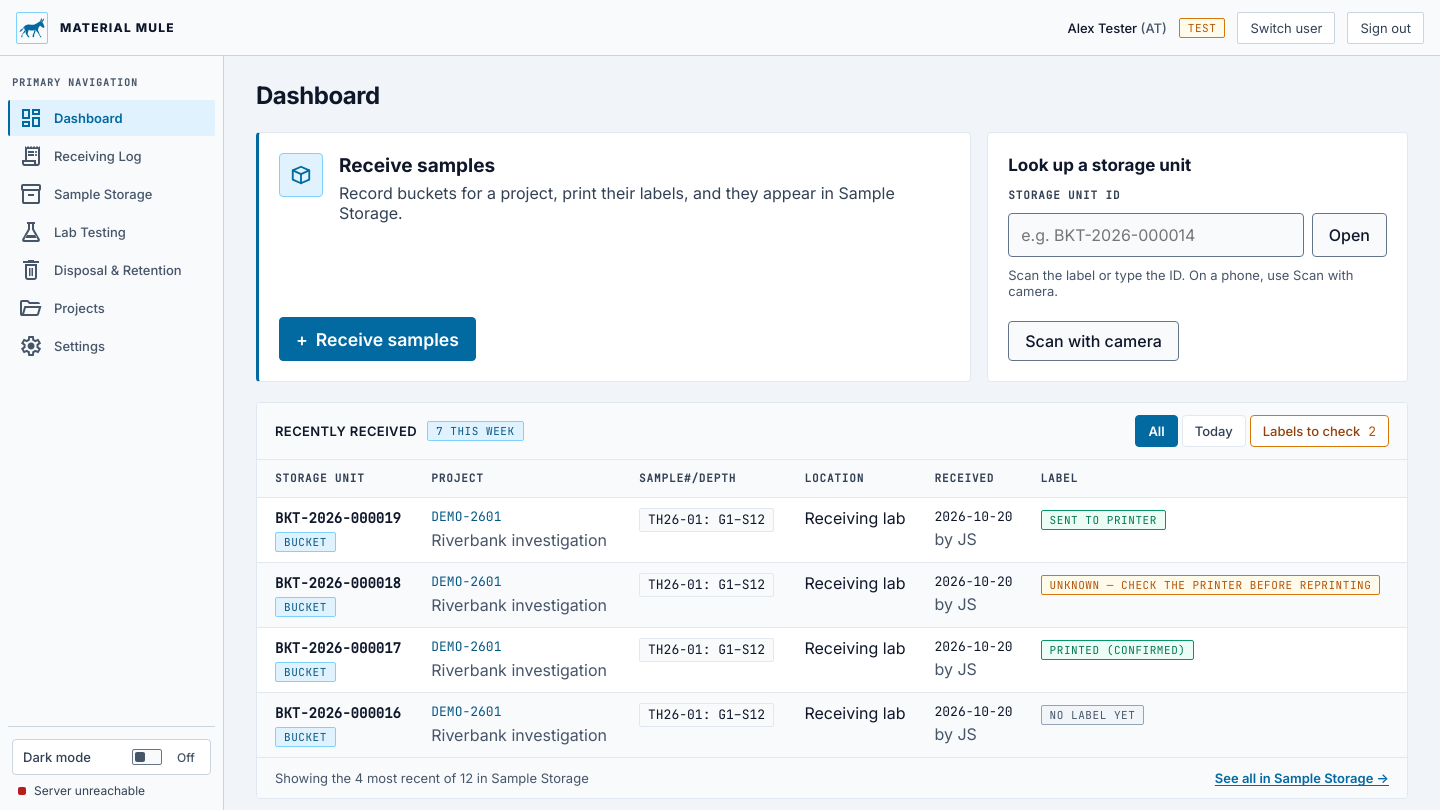
Scenario: Dashboard › filters by Today and Labels to check
The image size is (1440, 810).
Click the button "Labels to check 2".
click(1319, 431)  # box [1250,415,1389,447]
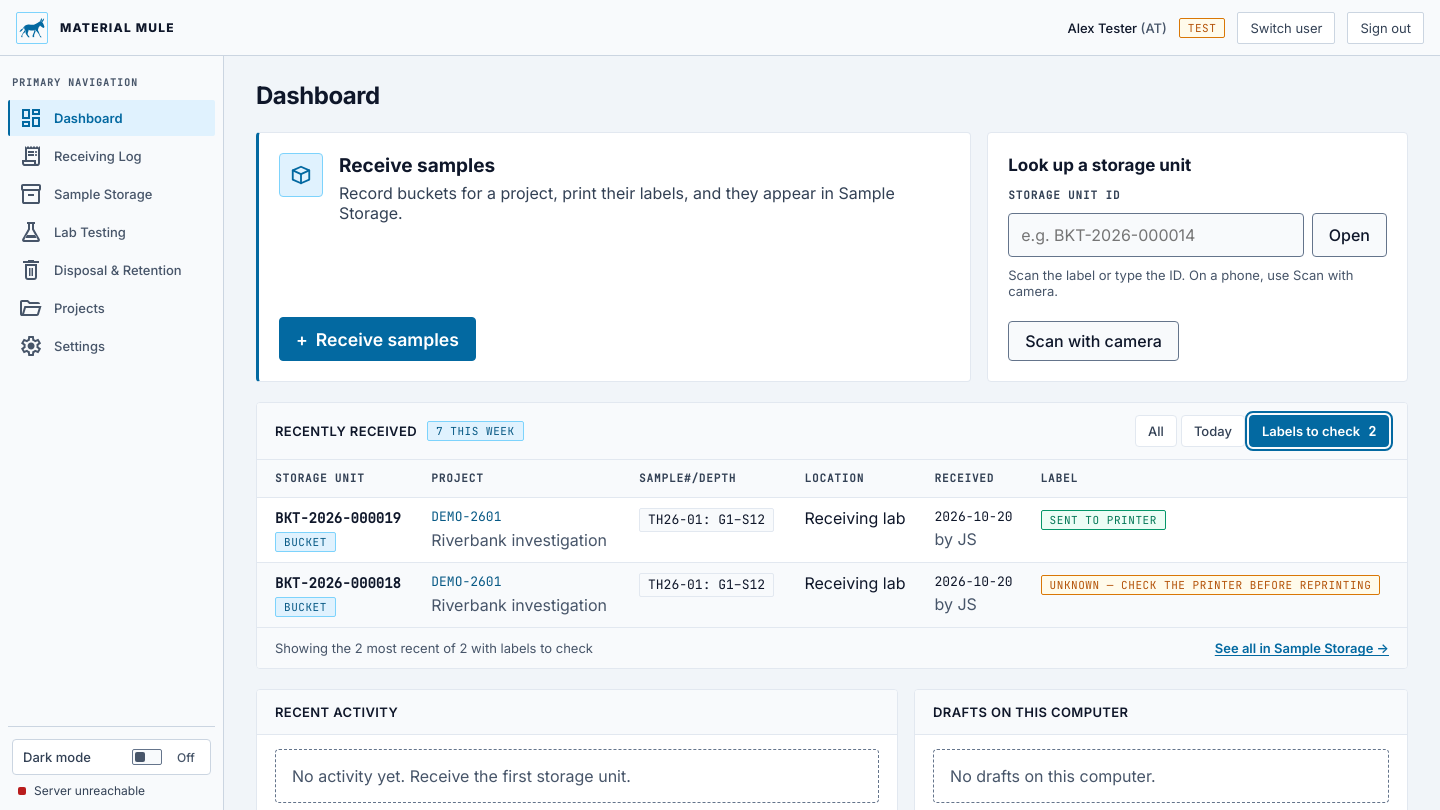
Check: the text "Showing the 2 most recent of 2 with labels to check" is shown, box [275,640,593,656]
Check: the number of rows is 3, box [257,460,1407,498]; [257,498,1407,563]; [257,563,1407,627]
Click the button "Today".
click(1213, 431)  # box [1181,415,1245,447]
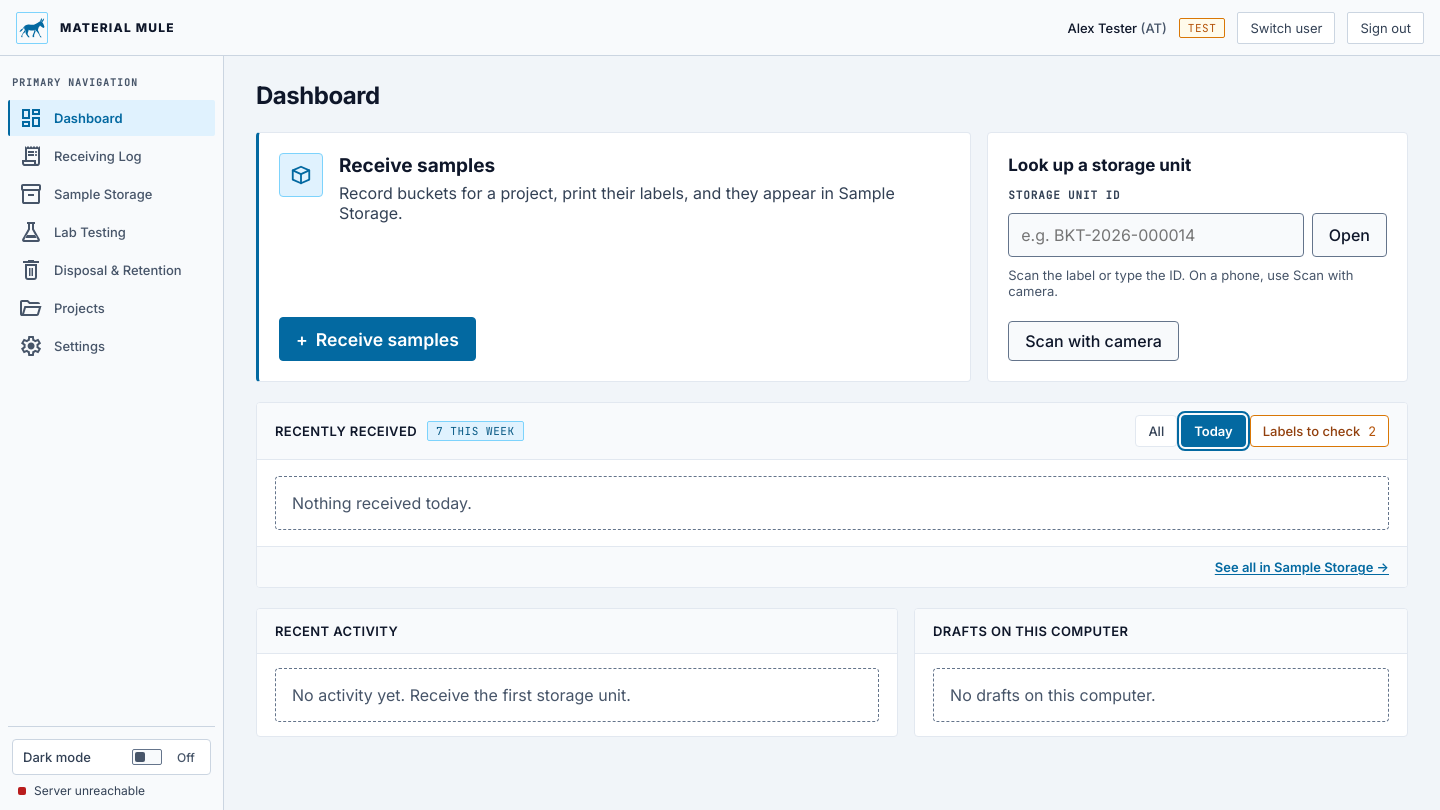
Check: the text "Nothing received today." is shown, box [275,476,1389,530]
